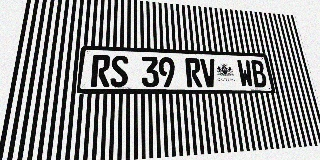3: (142, 56, 159, 87)
9: (158, 57, 176, 87)
B: (250, 60, 268, 87)
R: (91, 55, 111, 87), (185, 58, 202, 87)
S: (110, 55, 128, 87)
V: (200, 58, 218, 87)
W: (236, 60, 254, 87)
